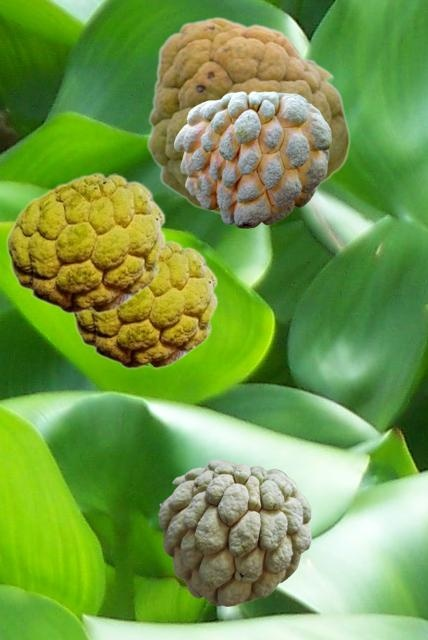atis: (146, 16, 349, 214), (5, 172, 165, 313), (158, 459, 310, 605), (174, 91, 330, 227), (72, 239, 217, 368)
